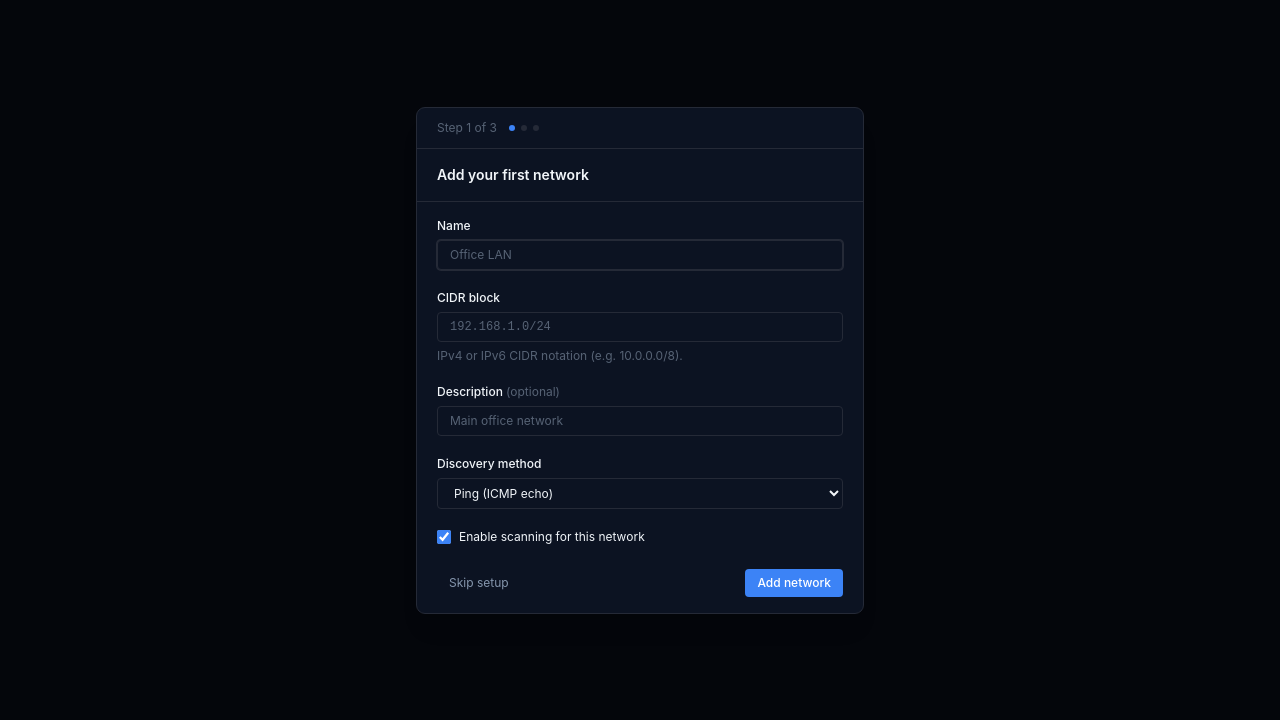
Test: OnboardingWizard › shows a validation error when name is empty
Step 1. Click the button "Add network" → (794, 582), box [746,568,843,596]
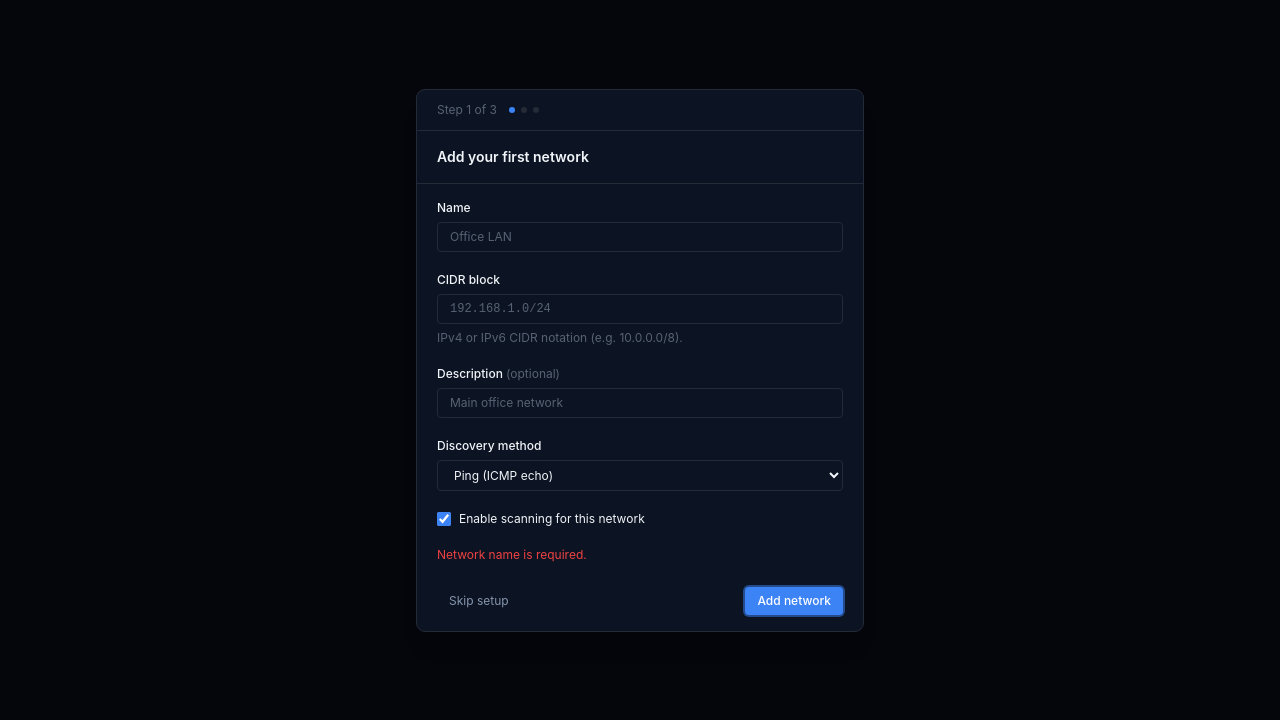
Expected: the message reads "Network name is required.", [437,546,587,562]
